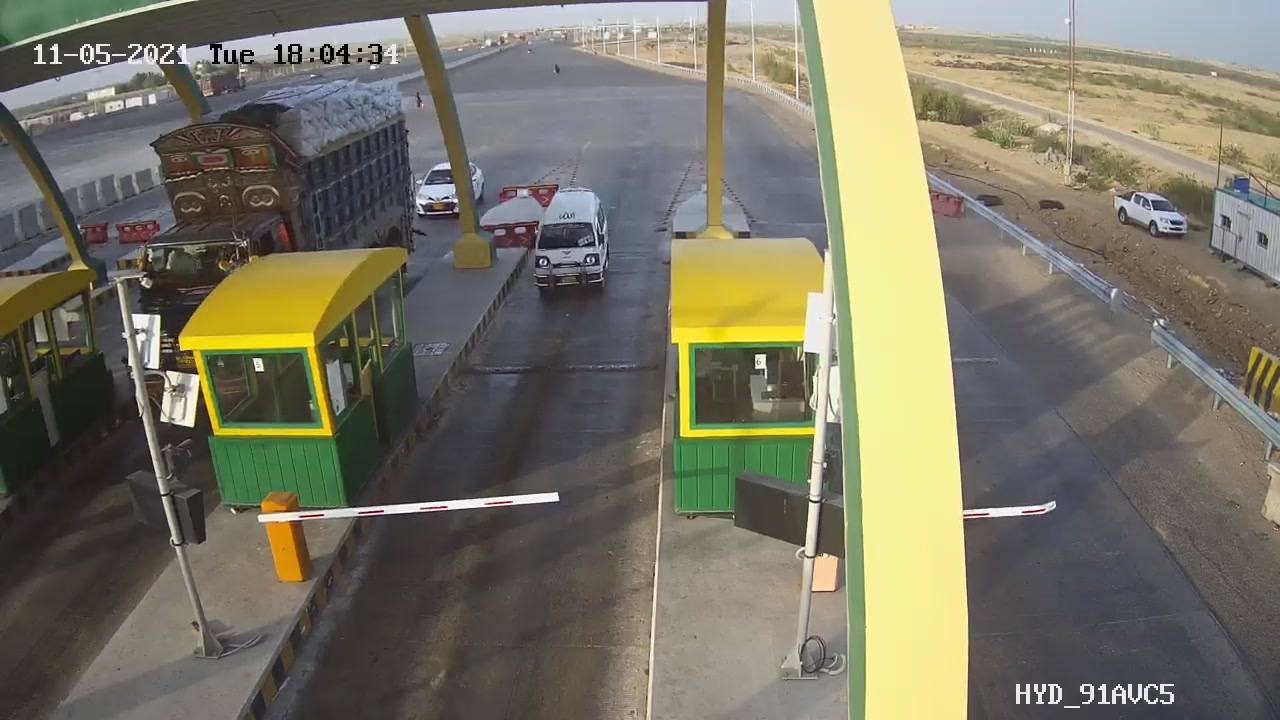F1: (517, 174, 627, 308)
